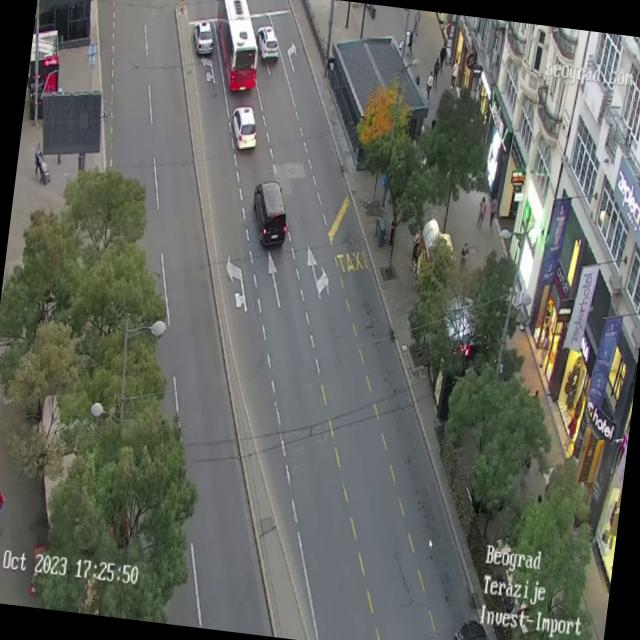bus: (206, 0, 266, 93)
car: (247, 178, 292, 248), (228, 104, 260, 152), (449, 617, 502, 640), (252, 24, 282, 62), (190, 18, 216, 56)
